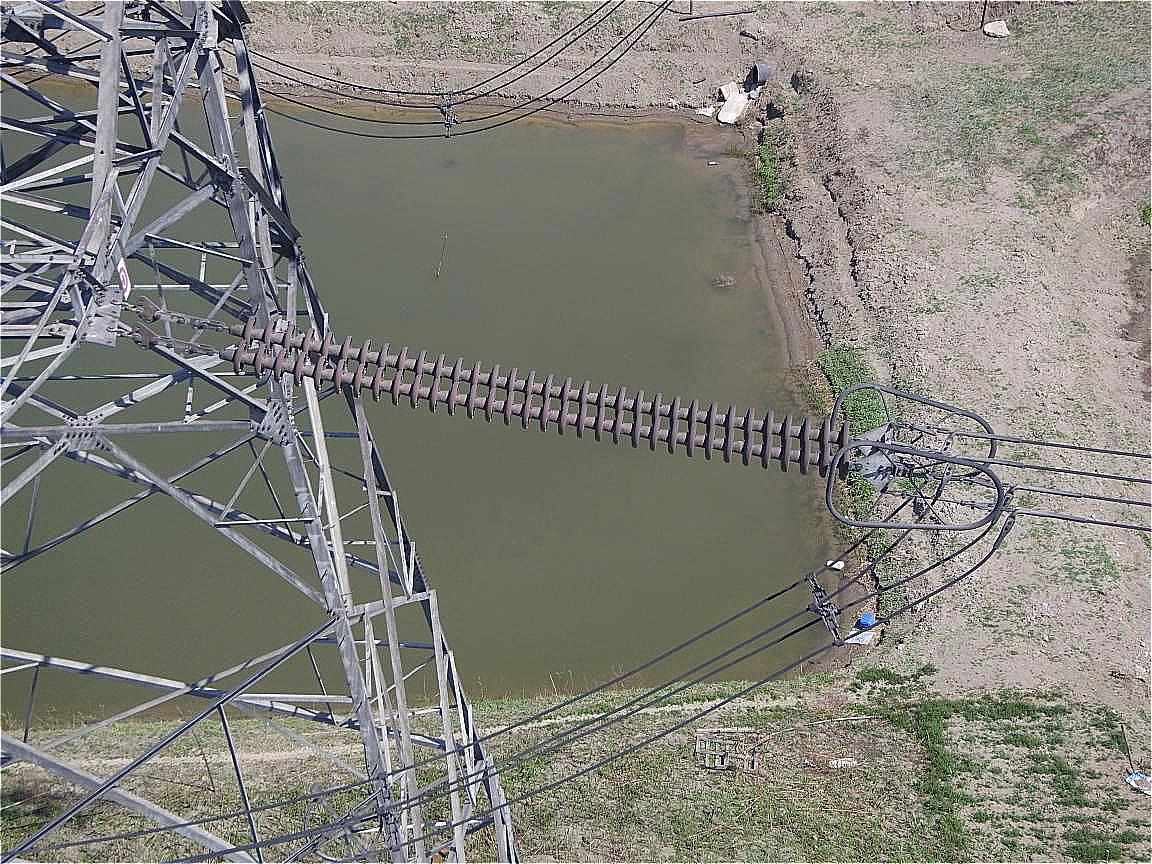insultor1: (212, 311, 918, 507)
